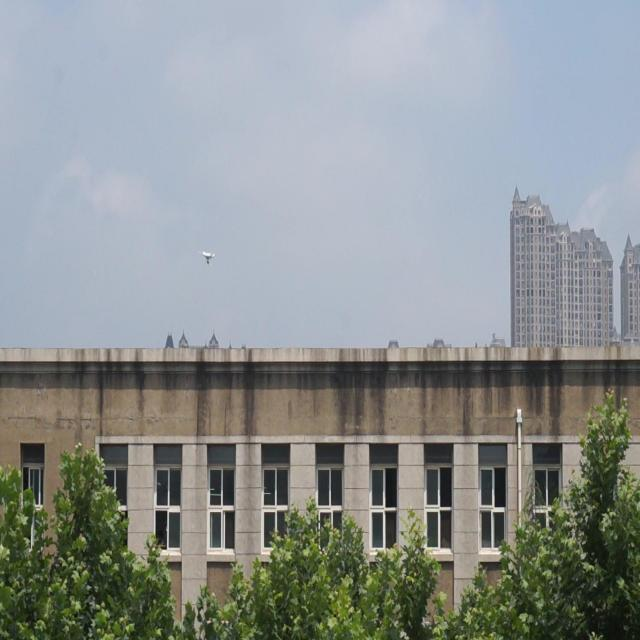UAV: (198, 250, 216, 266)
